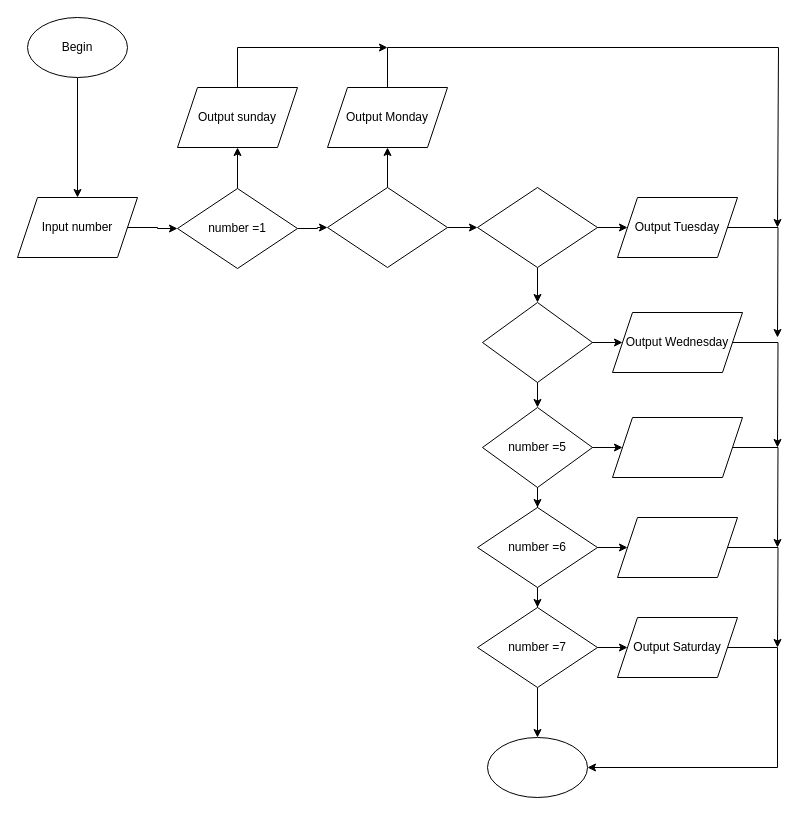
Some shapes in this 804 by 815 pixel diagram are drawn without their labels. Each missing label, with the centre of its shape:
"End" belongs at point 537,767.
"number =2" belongs at point 387,227.
"number =3" belongs at point 537,227.
"number =4" belongs at point 537,342.
"Output Friday" belongs at point 677,547.
"Output Thursday" belongs at point 677,447.
